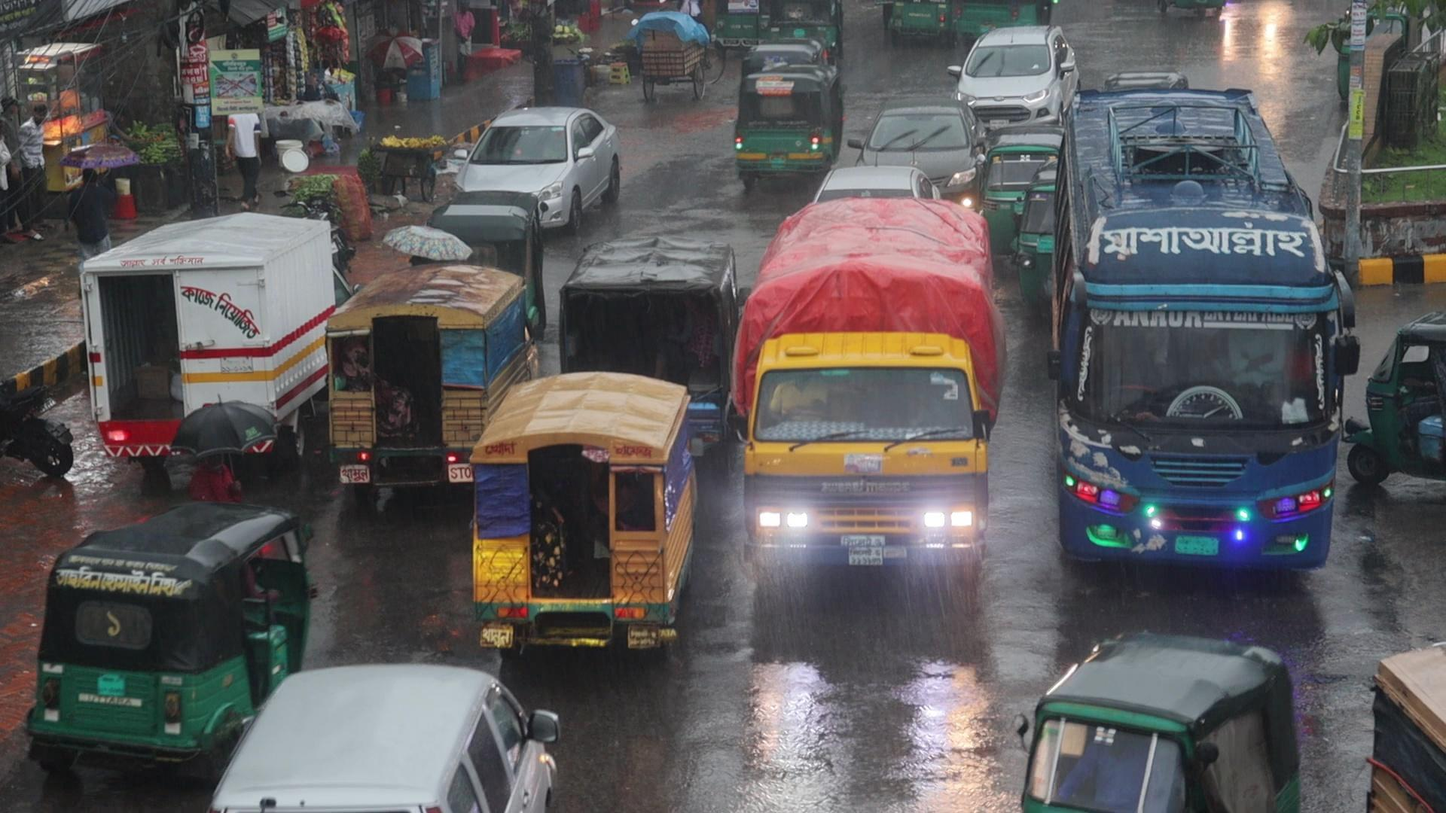Bus: (1051, 84, 1365, 580)
Car: (200, 662, 566, 813), (849, 92, 985, 181), (949, 20, 1069, 117)
Truck: (736, 195, 996, 589), (465, 370, 699, 656), (323, 260, 501, 495), (556, 236, 738, 380)
